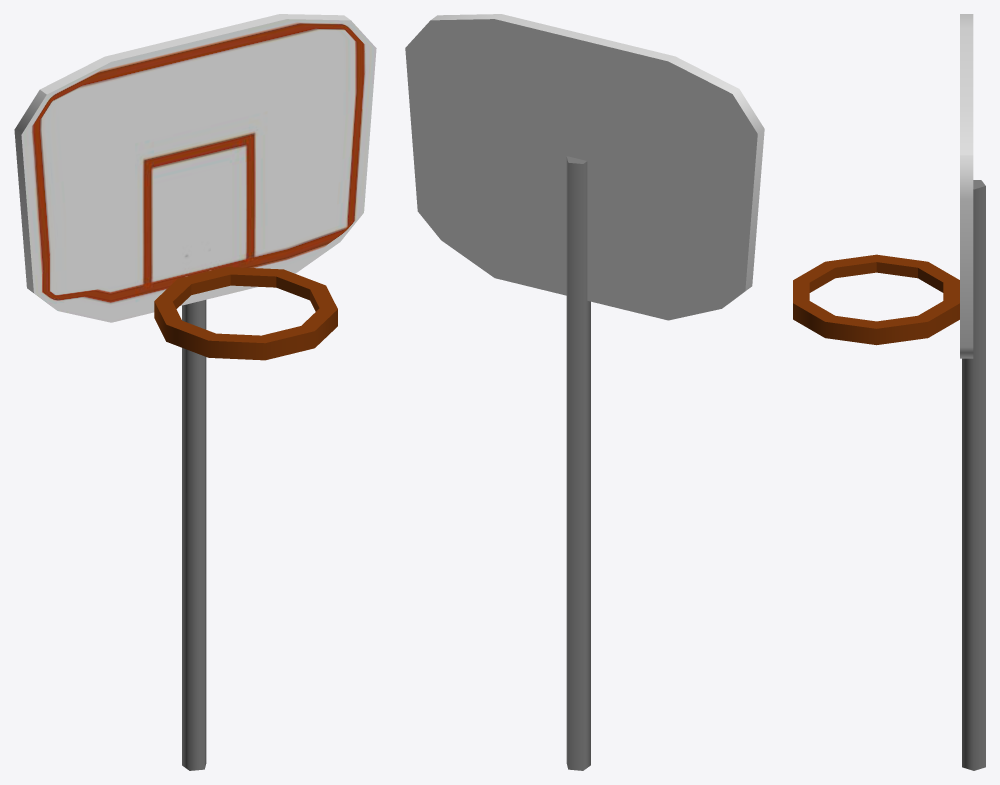
Rendered from Prop_BasketBallRing_Mod_01.fbx.
3 views of the same model, side by side, from view 1: azimuth 30°, elevation 25°; view 2: azimuth 150°, elevation 25°; view 3: azimuth 270°, elevation 25° (orthographic). The views are drawn at different scales.
Visible parts, largest first — view 1: BasketBallRing; view 2: BasketBallRing; view 3: BasketBallRing.
Part boxes in pixels (x1,y1,x2,y2): BasketBallRing: (14,14,376,770); BasketBallRing: (405,14,764,770); BasketBallRing: (793,14,985,770).
Bounding box in the file's own units: 1.98 × 3.9 × 0.9781.
